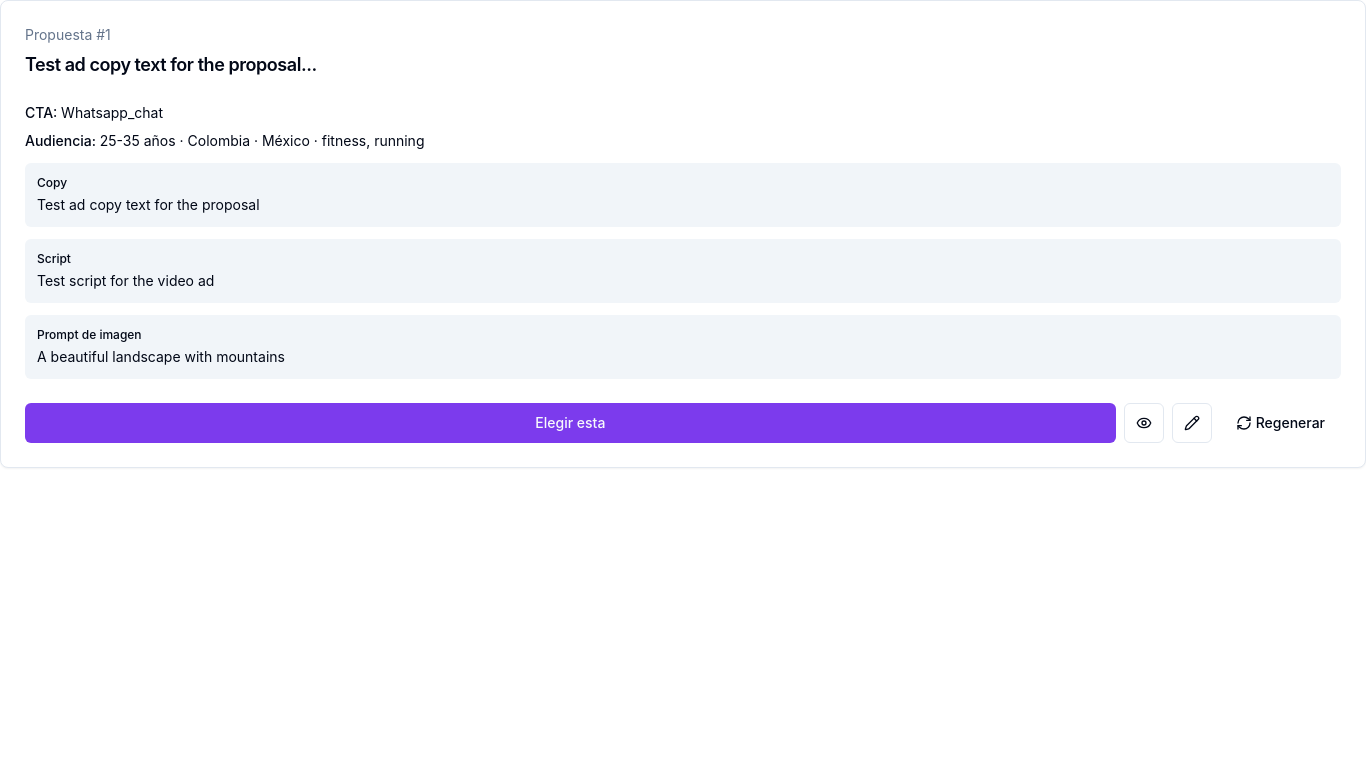
Proposal Editing › rejects invalid whatsapp_number format
The image size is (1366, 768).
Click the button titled "Editar" at (1192, 423), box left=1172, top=403, right=1212, bottom=443
(page scrolled)
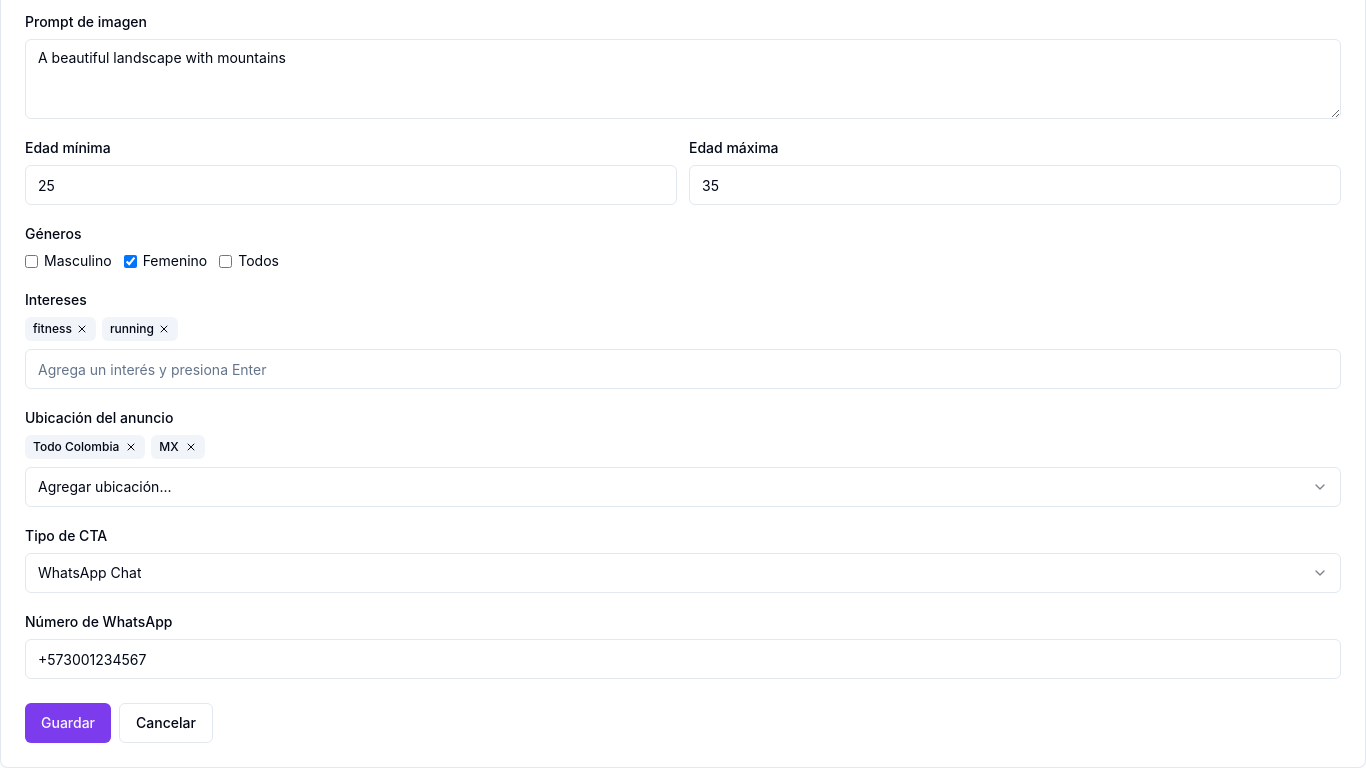
Type "12345" into the field labelled "Número de WhatsApp" at (683, 659), box left=25, top=639, right=1341, bottom=679
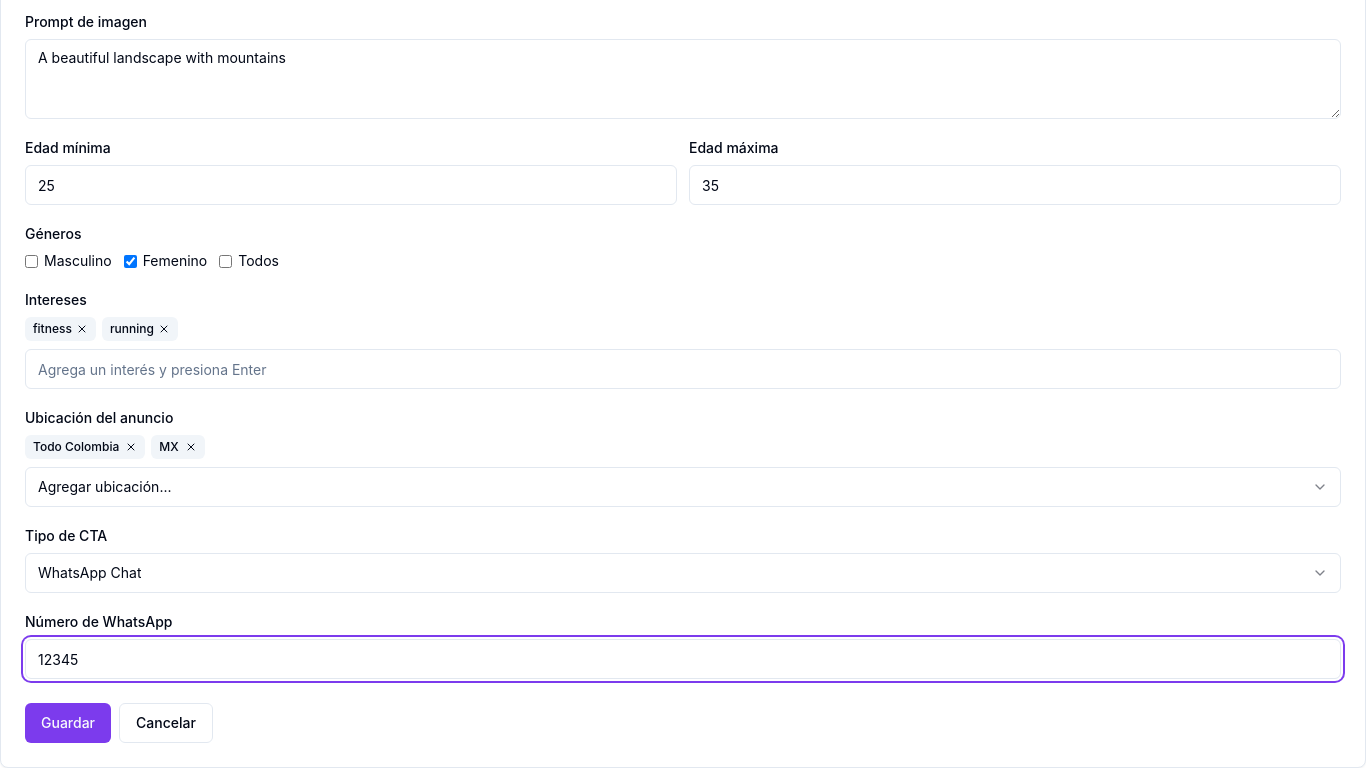
Click the button "Guardar" at (68, 723), box left=25, top=703, right=111, bottom=743
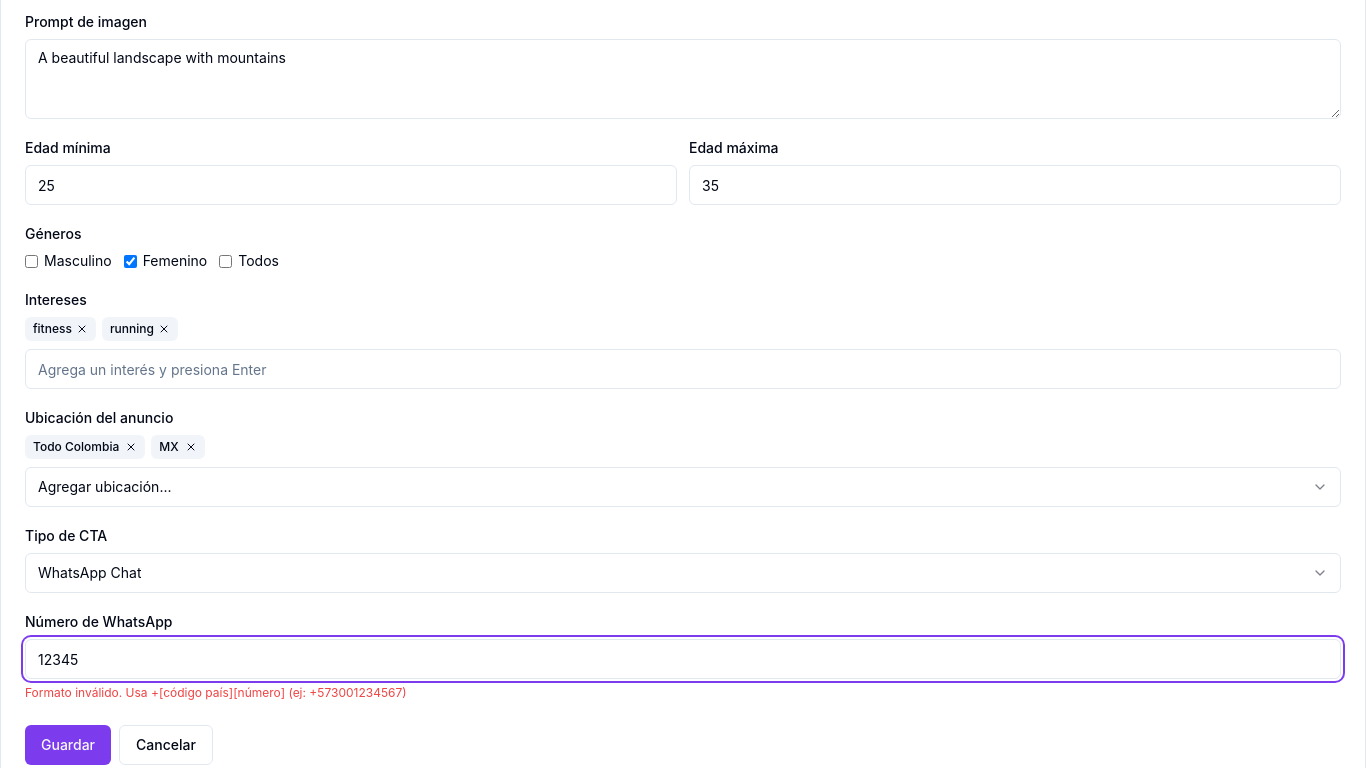
Expected: the text "Formato inválido" is shown, left=25, top=685, right=407, bottom=700
